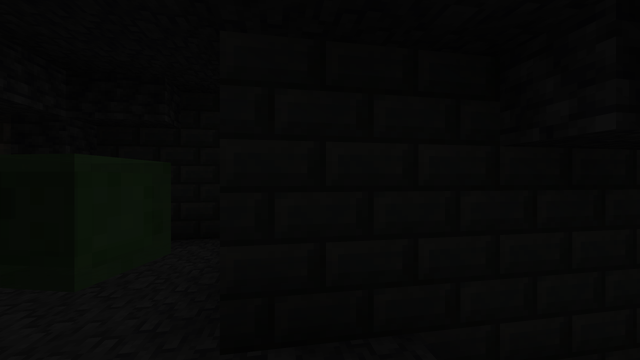slimes: (18, 148, 167, 289)
